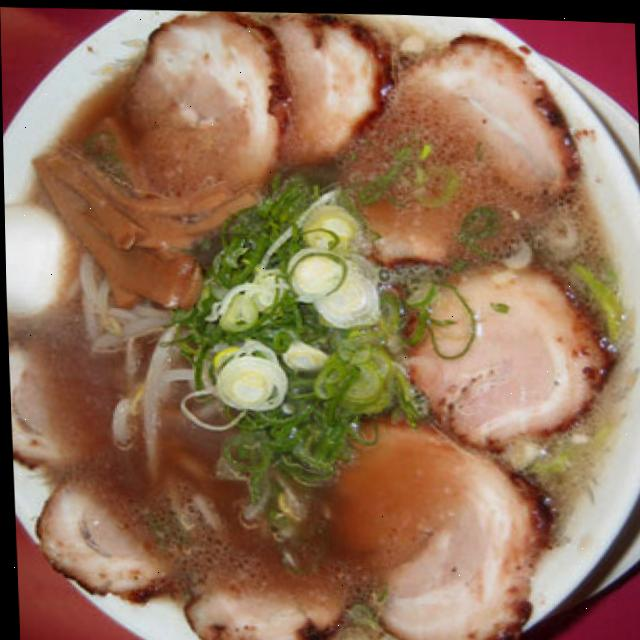面条主食: (0, 0, 633, 640)
